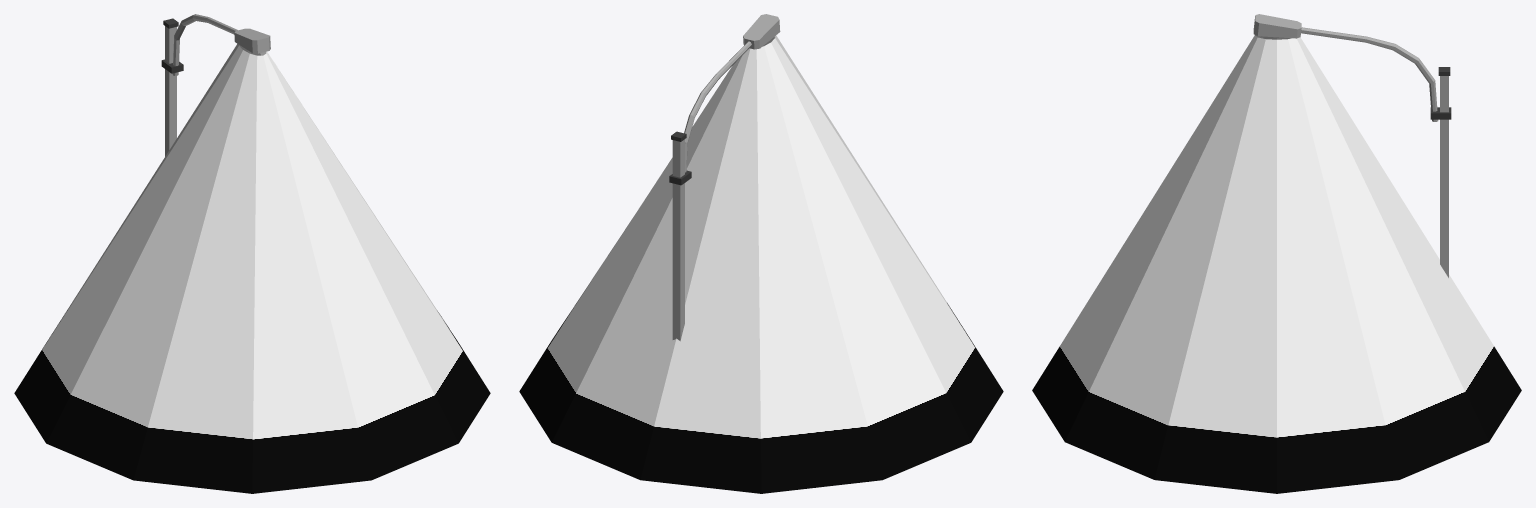
The model's file is PostLight.fbx.
3 renders of one model, left to right at view 1: azimuth 30°, elevation 25°; view 2: azimuth 150°, elevation 25°; view 3: azimuth 270°, elevation 25°, orthographic. The views are drawn at different scales.
Parts seen in each view (by area): view 1: Volumetric, PostLight-01; view 2: Volumetric, PostLight-01; view 3: Volumetric, PostLight-01.
Part boxes in pixels (x1,y1,x2,y2): Volumetric: (14, 44, 490, 493); PostLight-01: (161, 14, 270, 156); Volumetric: (519, 35, 1003, 493); PostLight-01: (669, 14, 780, 341); Volumetric: (1032, 35, 1521, 493); PostLight-01: (1253, 14, 1451, 277).
Size of what is drawn, in the model's own units: 10.19 by 8.55 by 10.19.
